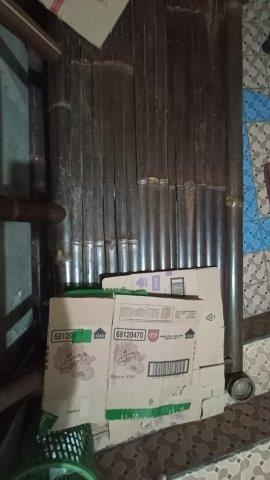kardus: (44, 268, 224, 439)
